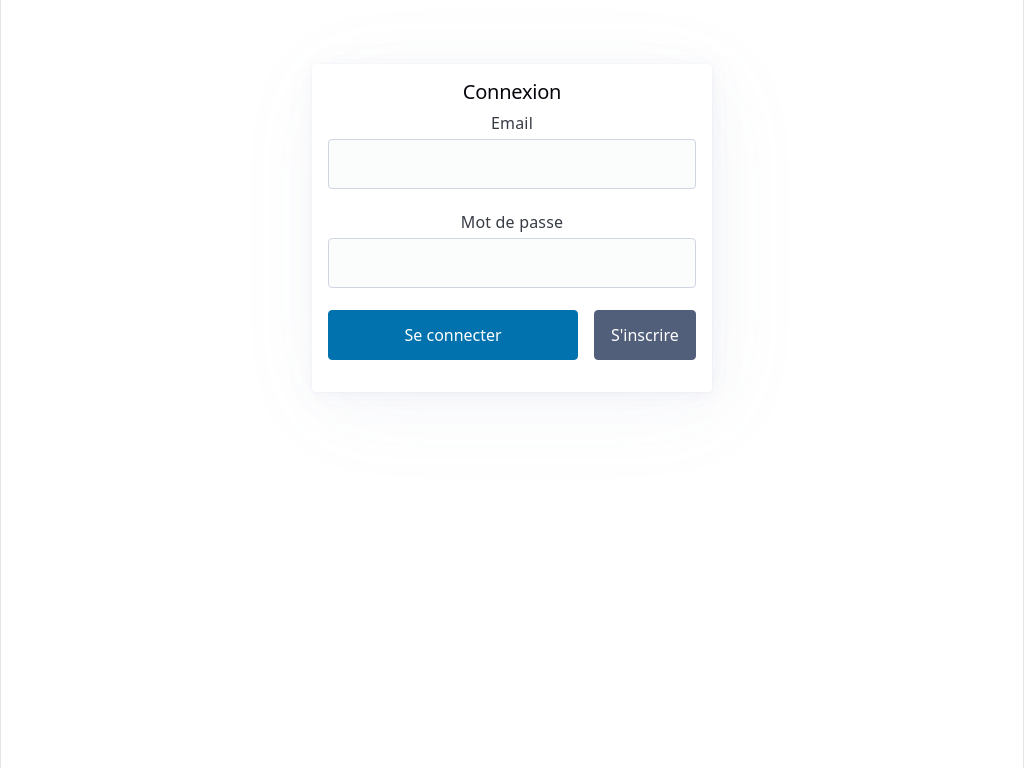
Scenario: Login › affiche une erreur si les identifiants sont incorrects
Type "wrong@example.com" into the field labelled "Email" at [512, 164], box [328,139,696,189]
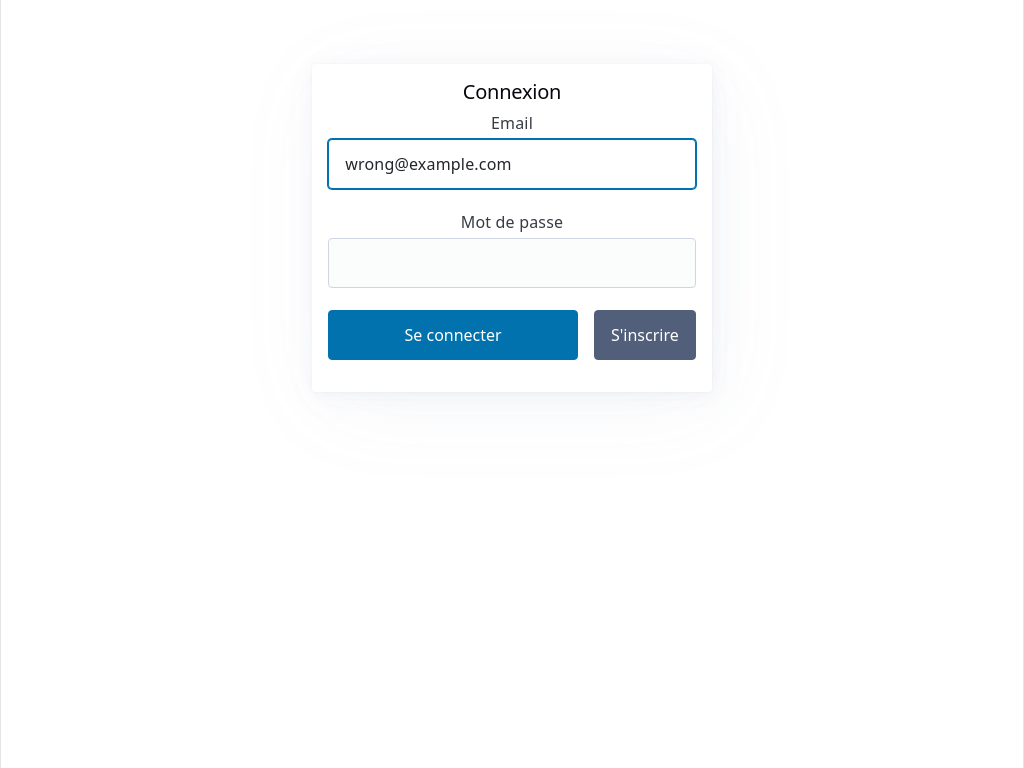
Type "badpassword" into the password field labelled "Mot de passe" at [512, 263], box [328,238,696,288]
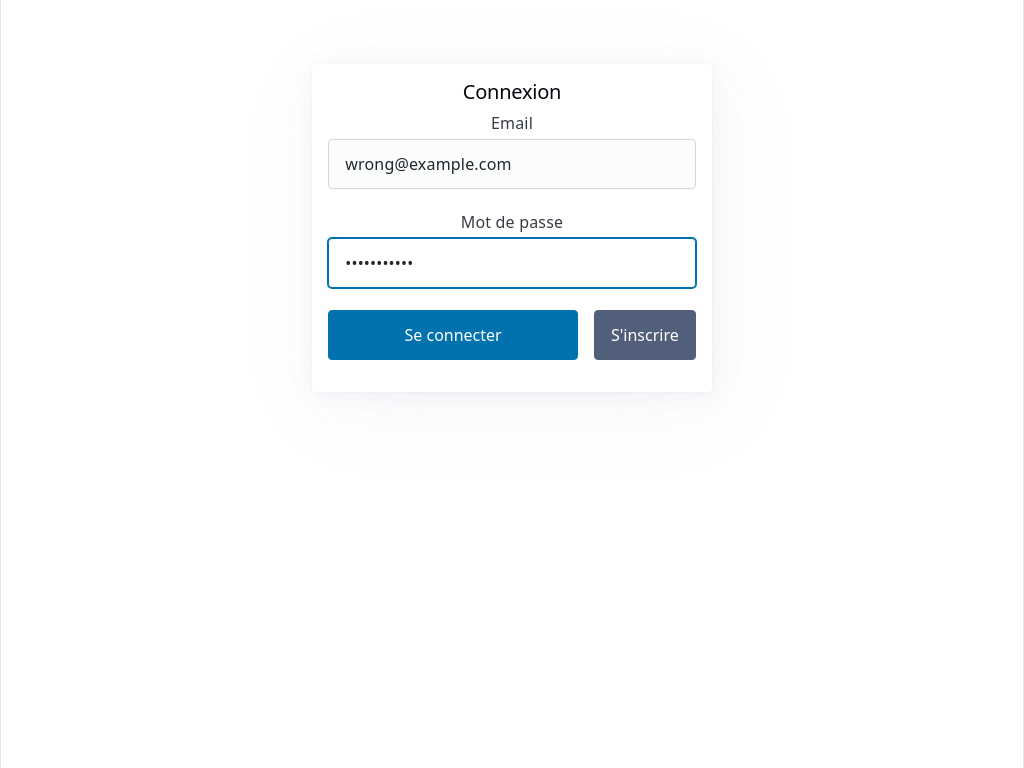
Click the button "Se connecter" at [453, 335], box [328,310,578,360]
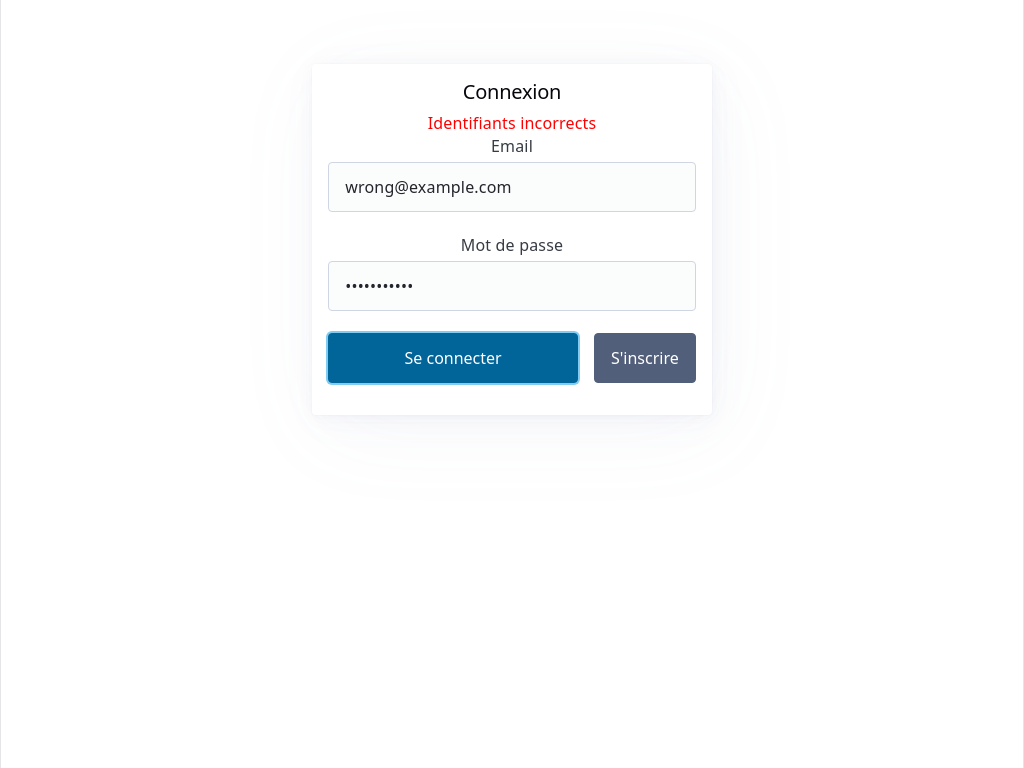
Expected: the text "Identifiants incorrects" is shown, [428,112,596,134]
